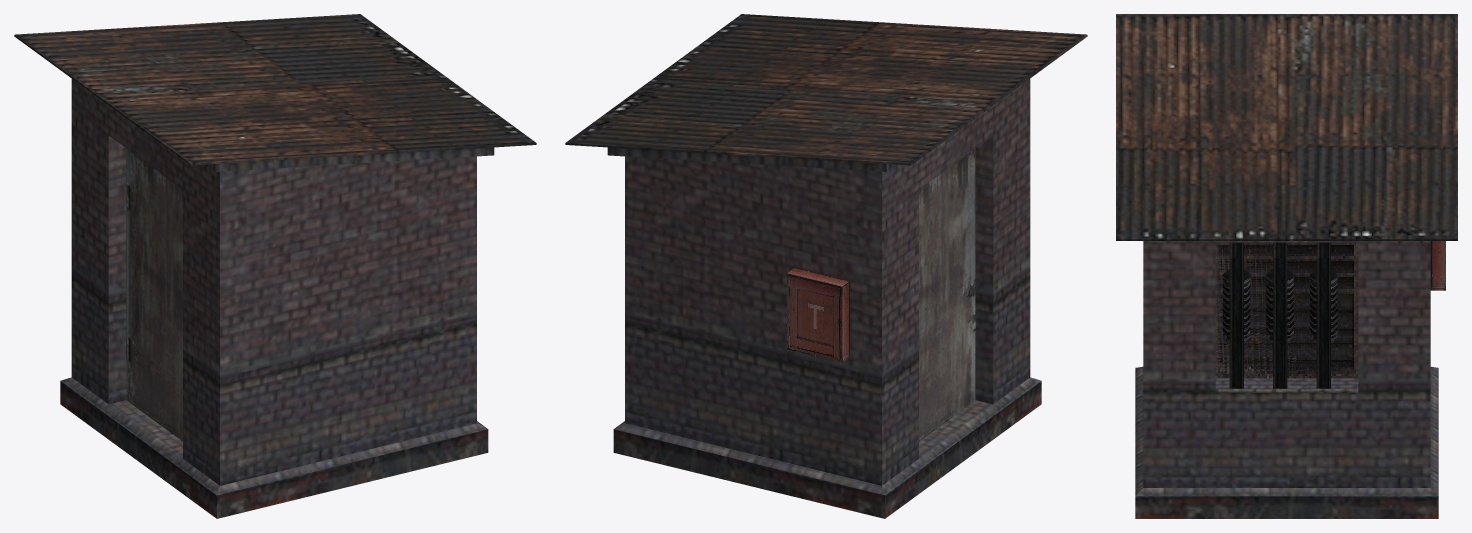
File: Transformer.fbx
The picture shows the model from 3 angles, left to right: view 1: azimuth 30°, elevation 25°; view 2: azimuth 150°, elevation 25°; view 3: azimuth 270°, elevation 25°; orthographic projection. The views are drawn at different scales.
Visible parts, largest first — view 1: F_transf01, F_roof01, F_dvere01, F_ram01; view 2: F_transf01, F_roof01, F_dvere01, F_tel_krab01, F_ram01; view 3: F_roof01, F_transf01, F_vnitrek01, F_Drzak01, F_Drzak02, F_Drzak03, F_Civka01, F_Civka02, F_Civka03, F_tel_krab01.
Part boxes in pixels (x1,y1,x2,y2): F_transf01: [60, 79, 494, 518]; F_roof01: [14, 14, 536, 165]; F_dvere01: [128, 150, 182, 437]; F_ram01: [126, 148, 182, 441]; F_transf01: [607, 79, 1041, 518]; F_roof01: [565, 14, 1087, 165]; F_dvere01: [919, 150, 973, 437]; F_tel_krab01: [787, 267, 849, 362]; F_ram01: [919, 148, 975, 441]; F_roof01: [1116, 14, 1457, 240]; F_transf01: [1135, 241, 1438, 518]; F_vnitrek01: [1215, 242, 1357, 378]; F_Drzak01: [1229, 242, 1243, 388]; F_Drzak02: [1273, 242, 1287, 388]; F_Drzak03: [1316, 242, 1330, 388]; F_Civka01: [1222, 269, 1250, 343]; F_Civka02: [1266, 269, 1293, 343]; F_Civka03: [1310, 269, 1337, 343]; F_tel_krab01: [1430, 241, 1445, 290].
Size of what is drawn, in the model's own units: 269 by 276 by 238.
